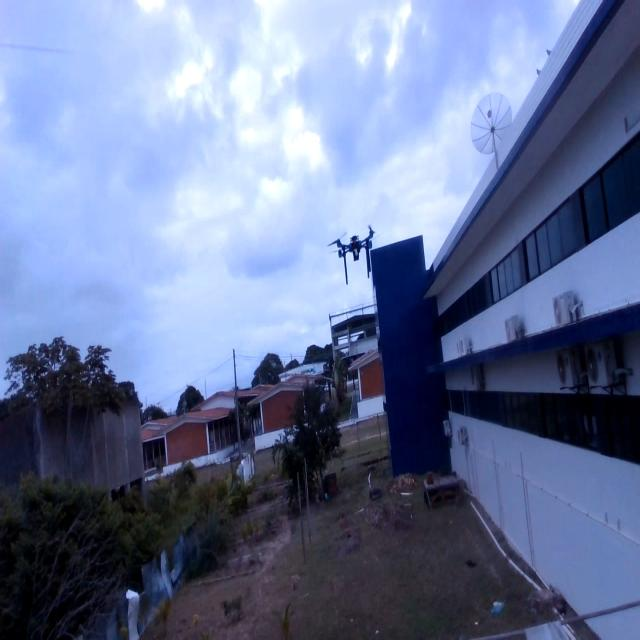-uav-: (323, 213, 379, 286)
